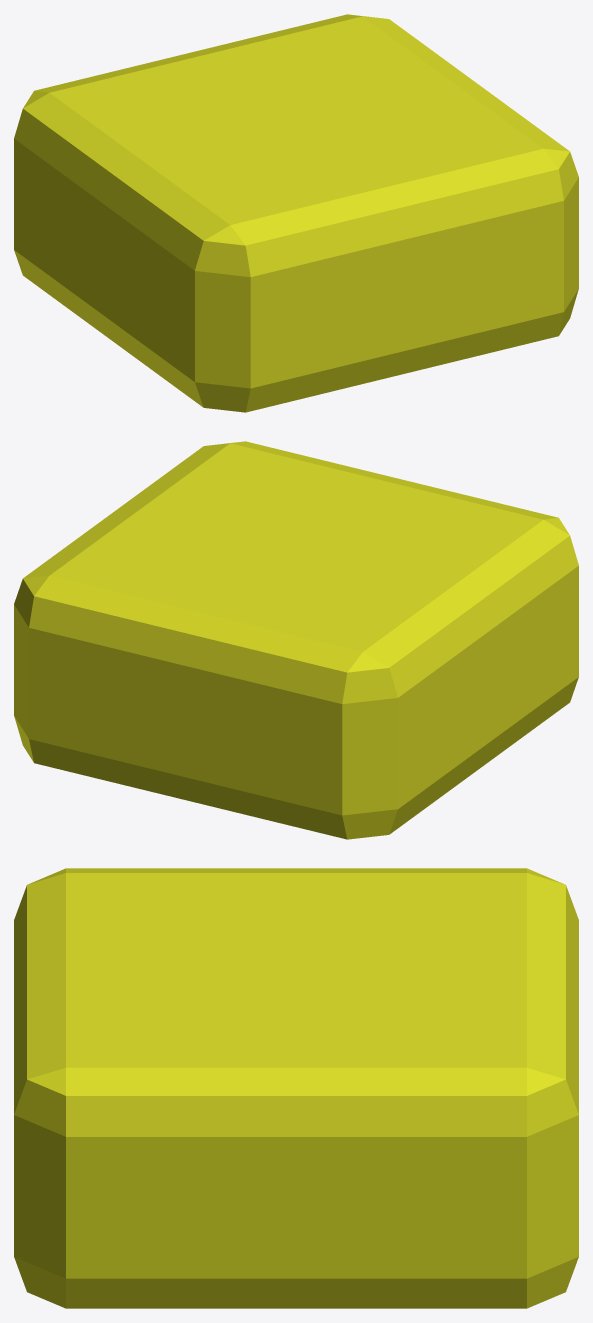
The picture shows the model from 3 angles, top to bottom: view 1: azimuth 30°, elevation 25°; view 2: azimuth 150°, elevation 25°; view 3: azimuth 270°, elevation 25°; orthographic projection. The views are drawn at different scales.
Parts seen in each view (by area): view 1: OBJ_2; view 2: OBJ_2; view 3: OBJ_2.
Boxes of the visible parts, x1=… form: OBJ_2: x1=14, y1=14, x2=578, y2=412; OBJ_2: x1=14, y1=441, x2=578, y2=839; OBJ_2: x1=14, y1=868, x2=578, y2=1308.
Bounding box in the file's own units: 0.65 × 0.3 × 0.65.
1 material, 1 textured.
